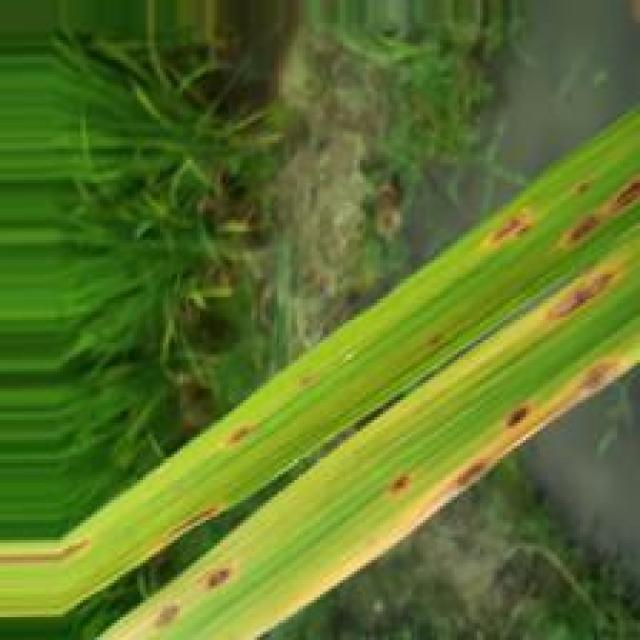Brown_Spot: (555, 173, 640, 253), (545, 269, 614, 321), (455, 462, 489, 486), (503, 405, 532, 430), (391, 477, 413, 498), (207, 568, 229, 589), (226, 428, 251, 446)
